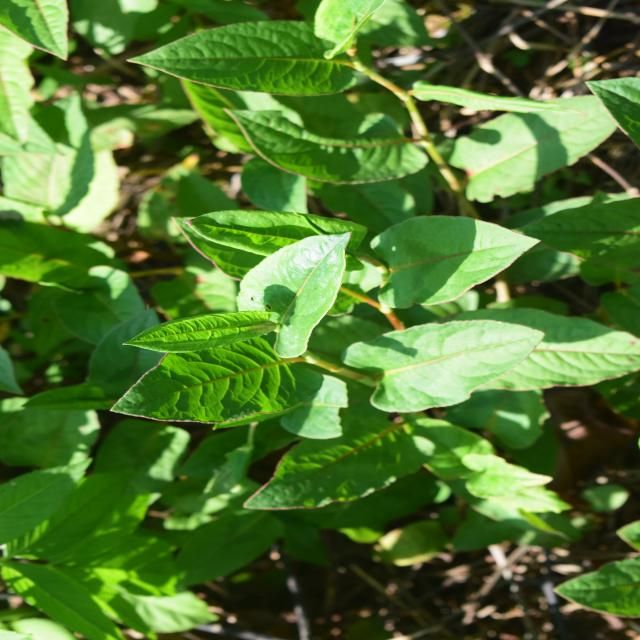Chinese_knotweed: (170, 135, 427, 540)
